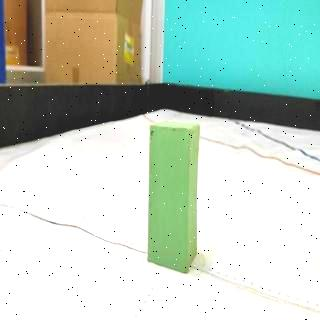greenbox: (147, 122, 200, 274)
